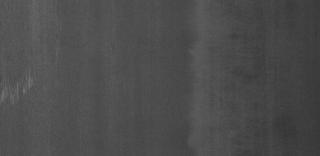silk spot: (0, 66, 36, 112)
